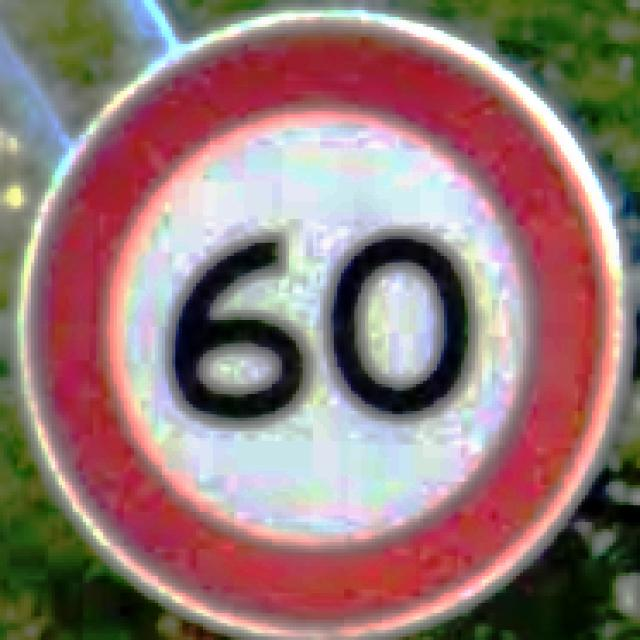max60: (10, 3, 633, 637)
